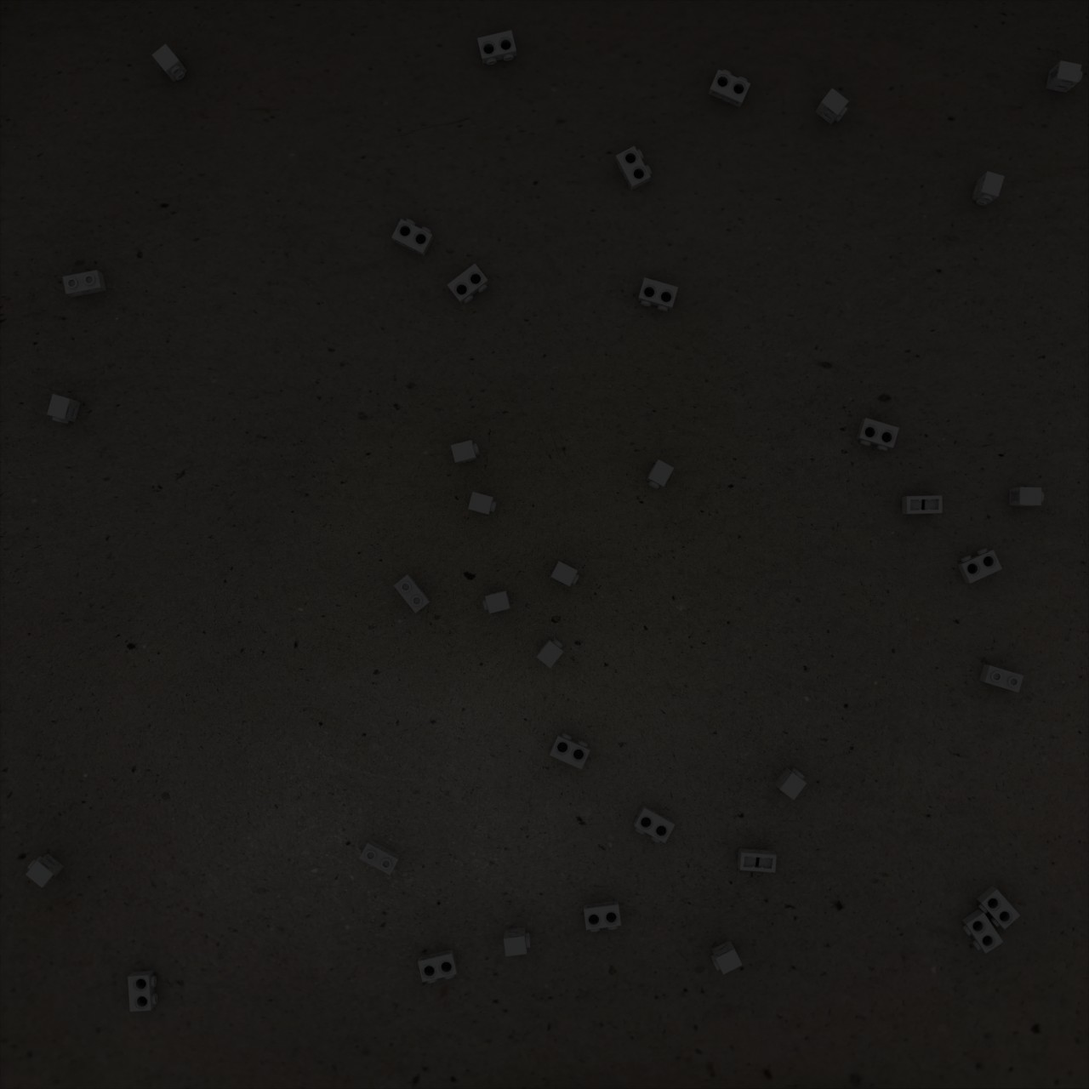lego: (976, 885, 1020, 930), (962, 908, 1003, 954), (447, 263, 488, 304), (391, 218, 434, 257), (708, 69, 751, 108), (615, 146, 652, 191), (957, 548, 1002, 584), (633, 805, 675, 843), (549, 733, 590, 770), (359, 839, 400, 875), (394, 574, 431, 613), (637, 277, 678, 312), (856, 418, 899, 451), (25, 853, 65, 888), (477, 30, 517, 65), (418, 949, 458, 983), (152, 44, 187, 82), (979, 664, 1024, 693), (128, 970, 158, 1012), (815, 88, 849, 125), (1046, 60, 1083, 93), (62, 270, 107, 297), (583, 901, 621, 932), (971, 171, 1005, 205), (711, 940, 743, 975), (774, 767, 807, 800), (47, 394, 81, 424), (737, 848, 777, 873), (646, 459, 674, 489), (536, 638, 564, 668), (503, 927, 530, 957), (902, 495, 943, 514), (551, 561, 579, 587), (451, 440, 480, 464), (483, 590, 511, 614), (468, 492, 497, 515), (1009, 487, 1044, 506)
